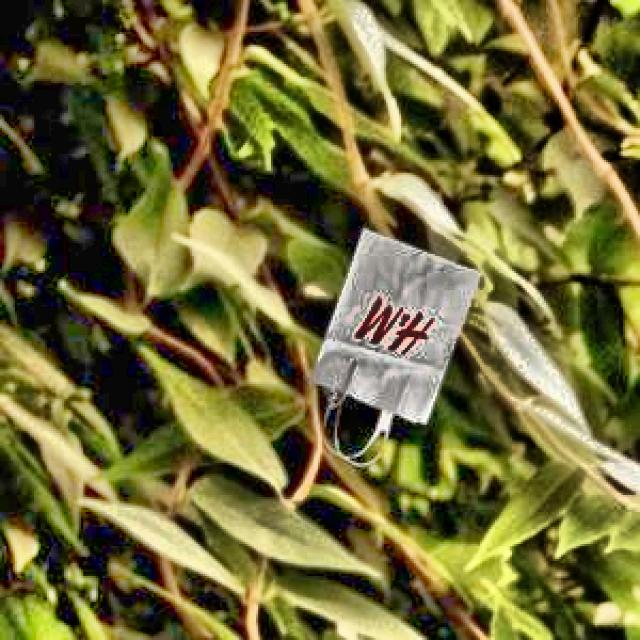Paper-bag: (300, 219, 488, 474)
